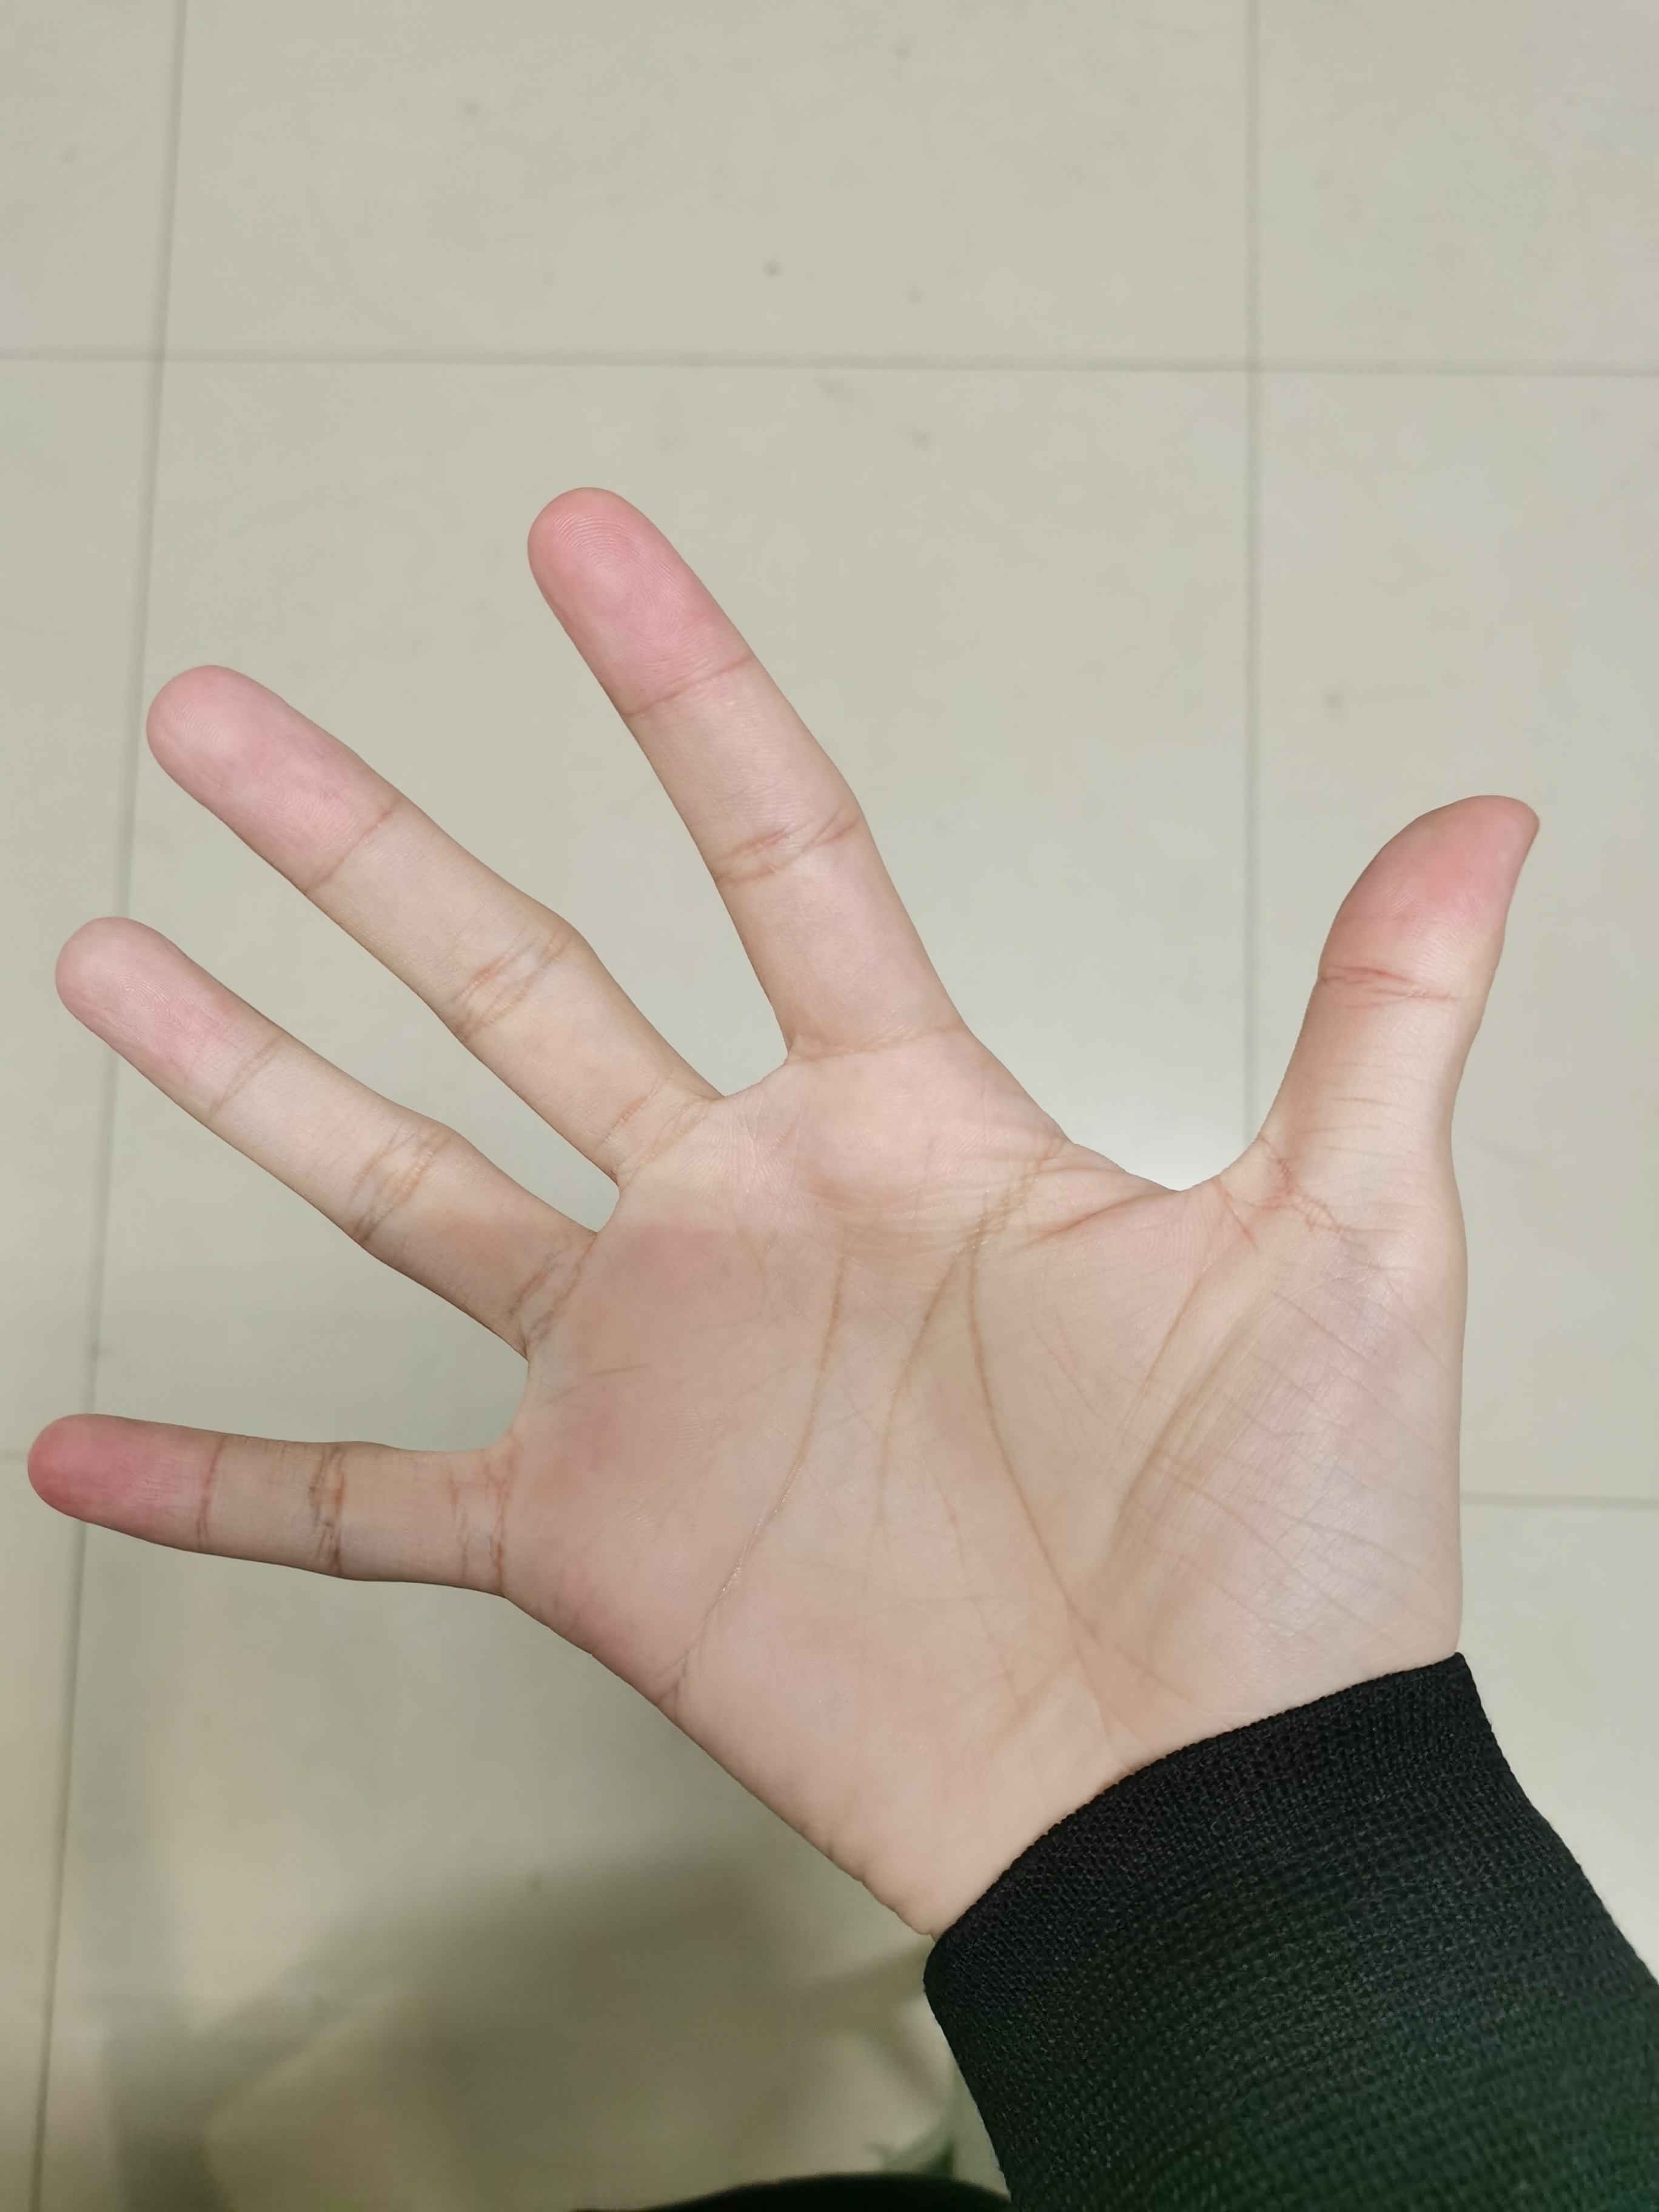no-phone: (26, 421, 1577, 1878)
